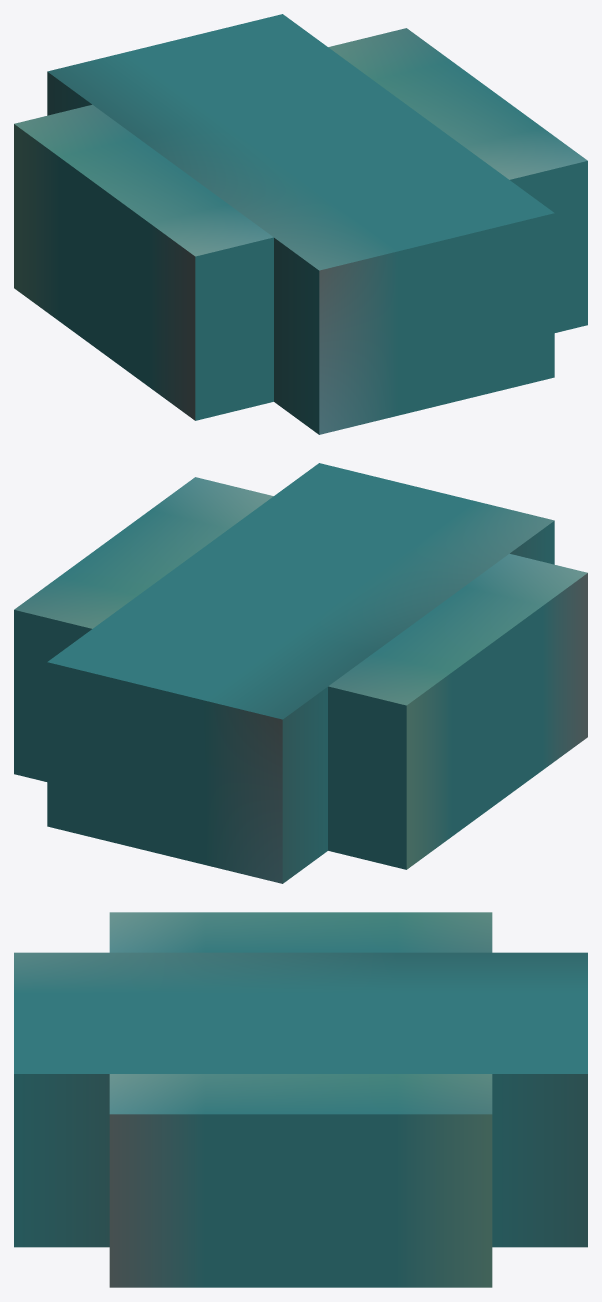
Rendered from PillowSmallBlue_00.obj.
3 views of the same model, one above another, from view 1: azimuth 30°, elevation 25°; view 2: azimuth 150°, elevation 25°; view 3: azimuth 270°, elevation 25° (orthographic). The views are drawn at different scales.
Parts seen in each view (by area): view 1: PillowSmallBlue_00; view 2: PillowSmallBlue_00; view 3: PillowSmallBlue_00.
Boxes of the visible parts, bbox=[...] form: PillowSmallBlue_00: bbox=[14, 14, 587, 434]; PillowSmallBlue_00: bbox=[14, 463, 587, 883]; PillowSmallBlue_00: bbox=[14, 912, 587, 1287].
Size of the model in its own units: 0.25 by 0.1 by 0.3.
